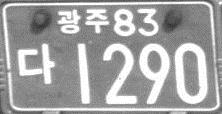0: (173, 40, 209, 105)
1: (74, 40, 92, 107)
2: (102, 40, 138, 106)
3: (136, 7, 159, 38)
8: (112, 7, 136, 38)
9: (138, 41, 170, 106)
광주_O: (55, 7, 110, 37)
다: (15, 42, 55, 84)
